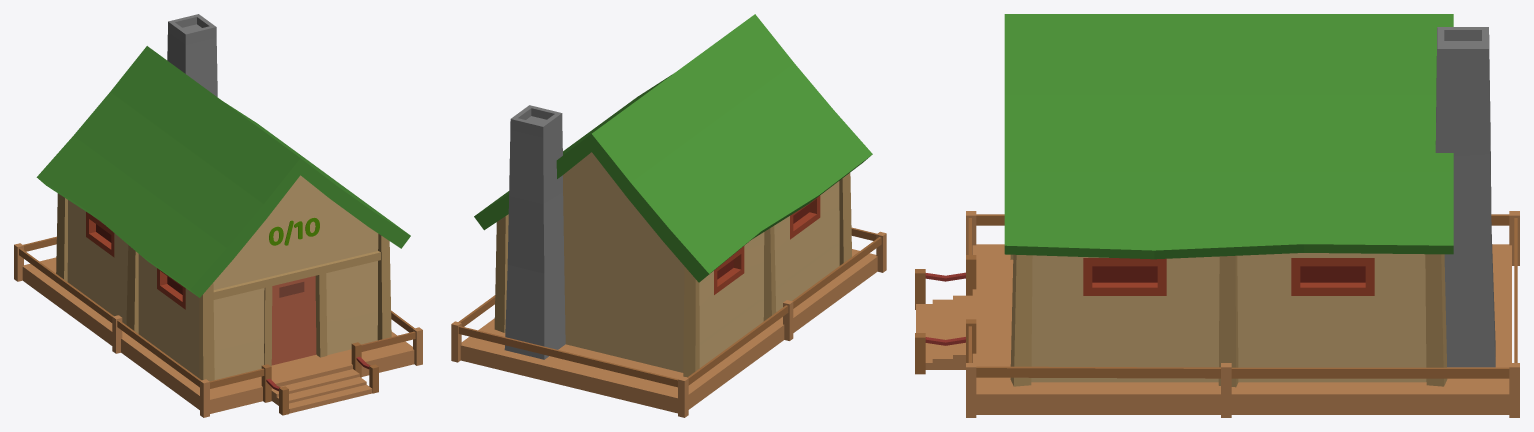
File: House.FBX
The picture shows the model from 3 angles, left to right: view 1: azimuth 30°, elevation 25°; view 2: azimuth 150°, elevation 25°; view 3: azimuth 270°, elevation 25°; orthographic projection. The views are drawn at different scales.
Parts seen in each view (by area): view 1: Object002; view 2: Object002; view 3: Object002.
Boxes of the visible parts, x1=… form: Object002: x1=14, y1=14, x2=422, y2=417; Object002: x1=451, y1=14, x2=886, y2=417; Object002: x1=915, y1=14, x2=1519, y2=417.
Size of the model in its own units: 305 by 300 by 489.
1 material, 1 textured.
